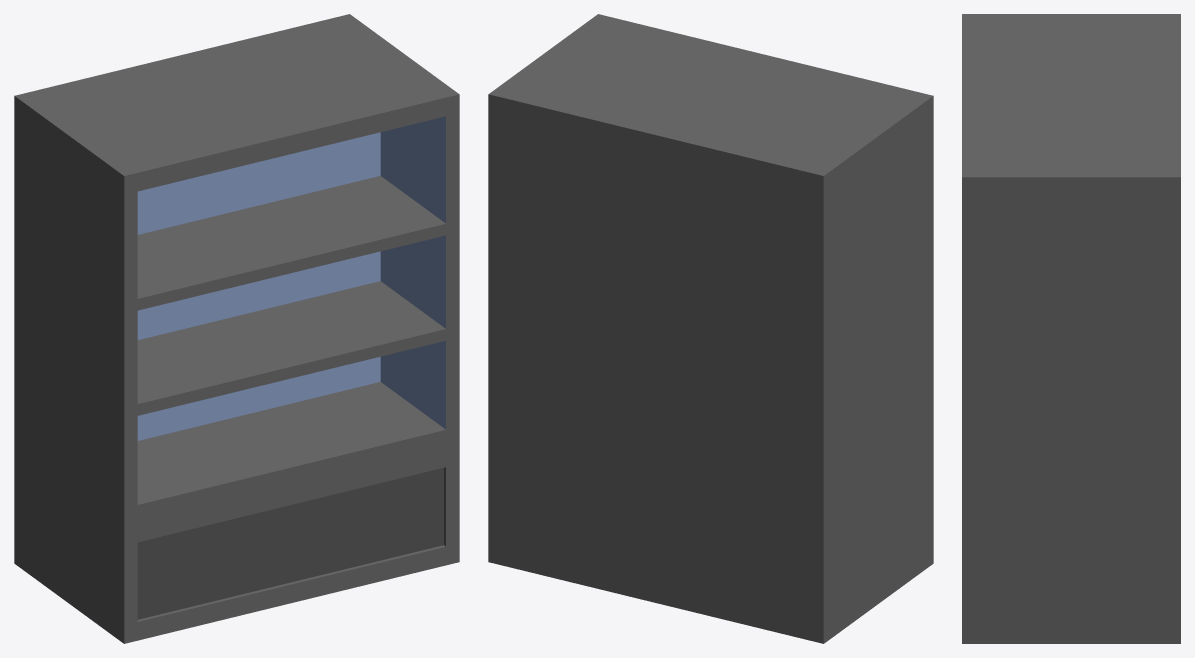
The model's file is Fridge.fbx.
The picture shows the model from 3 angles, left to right: view 1: azimuth 30°, elevation 25°; view 2: azimuth 150°, elevation 25°; view 3: azimuth 270°, elevation 25°; orthographic projection.
Visible parts, largest first — view 1: Fridge; view 2: Fridge; view 3: Fridge.
Boxes of the visible parts, x1,y1,x2,y2 form: Fridge: (14, 14, 459, 643); Fridge: (488, 14, 933, 643); Fridge: (962, 14, 1180, 643).
Bounding box in the file's own units: 300 × 400 × 170.
